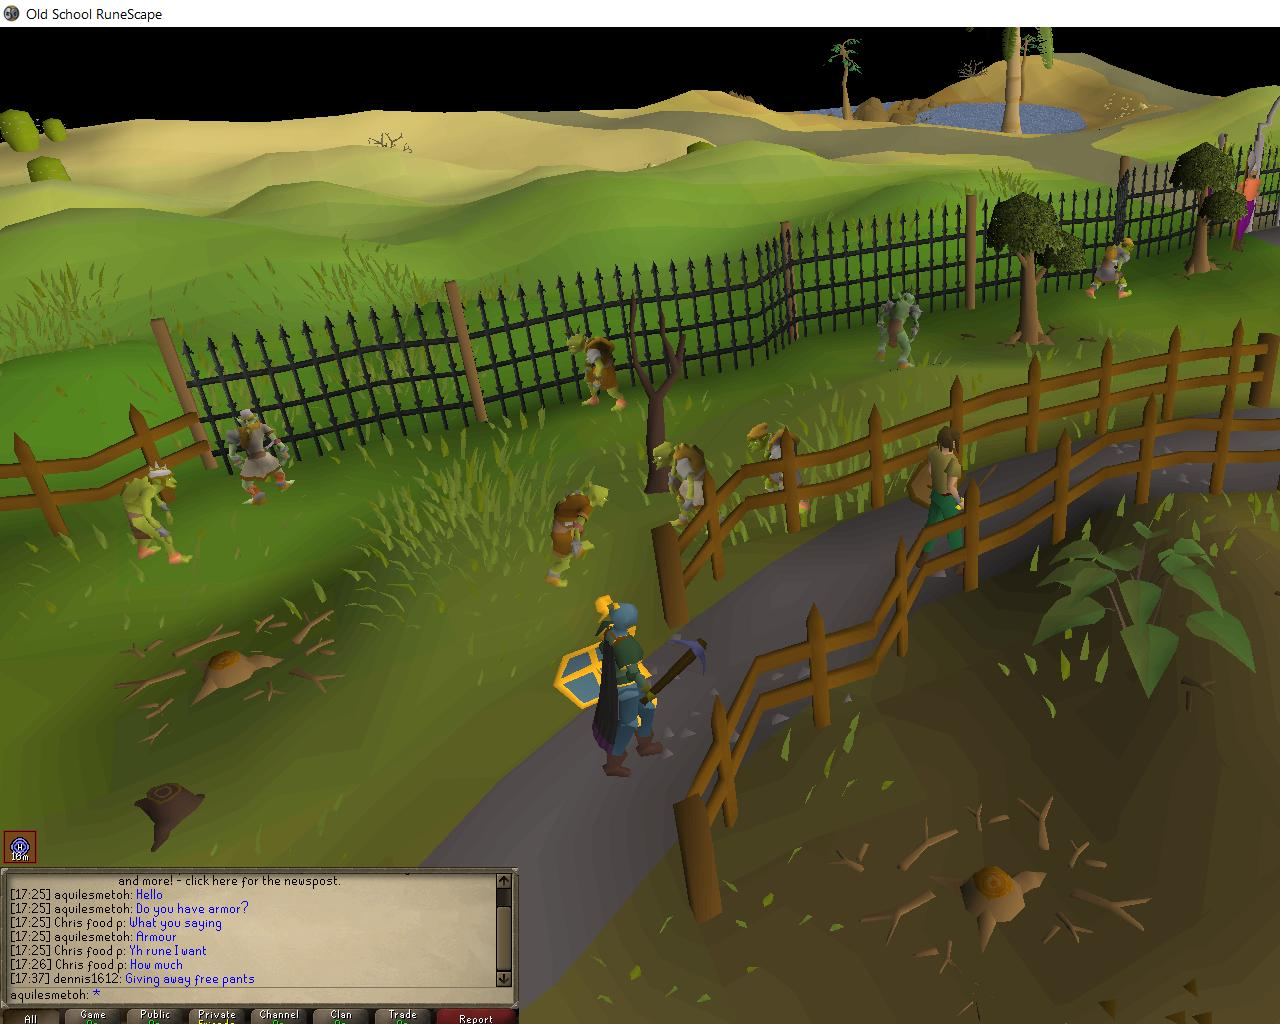Goblin: (115, 456, 197, 567), (220, 408, 300, 511), (542, 474, 610, 591), (649, 439, 725, 540), (749, 418, 819, 519), (563, 324, 634, 419), (870, 287, 929, 370), (1083, 234, 1141, 305)
